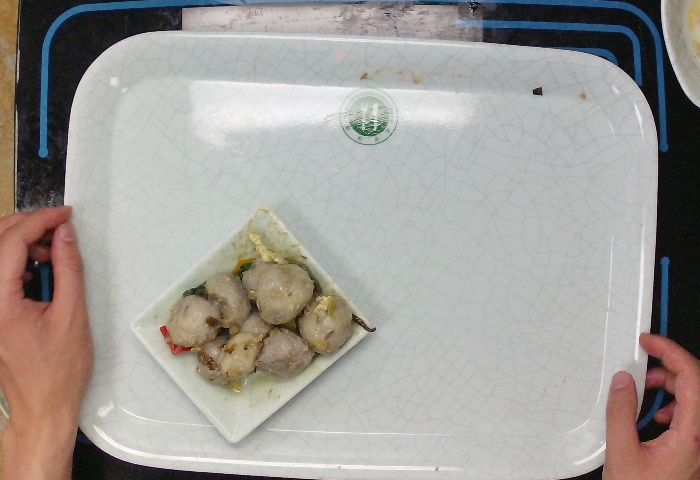WCQzf-Ru_Ci_Si_Fang_Die: (130, 207, 371, 447)
